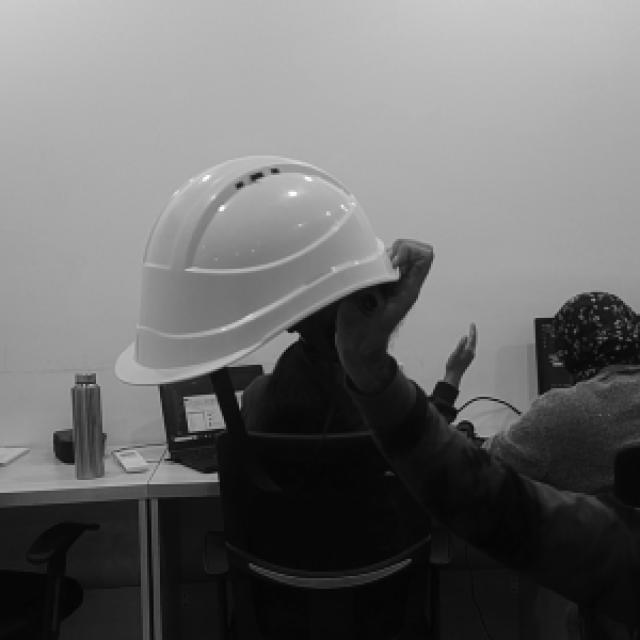safety_helmet: (114, 153, 400, 385)
